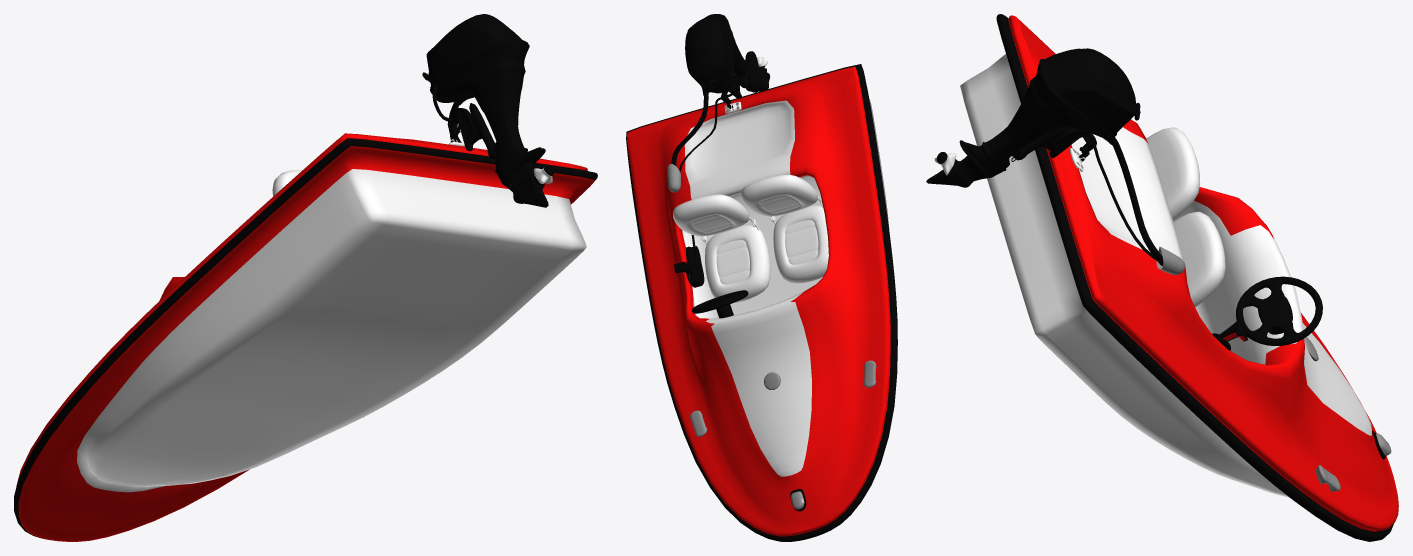
Rendered from boat.glb.
3 views of the same model, side by side, from view 1: azimuth 30°, elevation 25°; view 2: azimuth 150°, elevation 25°; view 3: azimuth 270°, elevation 25° (orthographic). The views are drawn at different scales.
Parts seen in each view (by area): view 1: Mesh_Boat; view 2: Mesh_Boat; view 3: Mesh_Boat.
Part boxes in pixels (x1=…): Mesh_Boat: x1=14, y1=14, x2=597, y2=541; Mesh_Boat: x1=626, y1=14, x2=897, y2=541; Mesh_Boat: x1=926, y1=14, x2=1398, y2=541.
Bounding box in the file's own units: 0.1146 × 0.1329 × 0.096.
